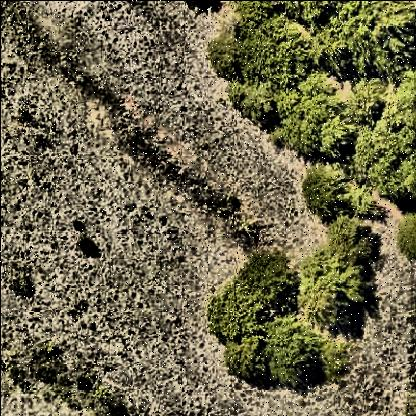tree-top: (350, 78, 416, 201), (316, 2, 416, 78), (206, 283, 268, 386), (302, 254, 377, 332), (275, 89, 345, 162), (261, 319, 325, 392), (249, 20, 311, 90), (233, 249, 299, 304), (320, 216, 384, 262), (345, 74, 391, 131), (227, 77, 274, 129), (300, 170, 348, 220), (208, 37, 252, 85), (345, 186, 383, 216), (399, 209, 416, 266)
